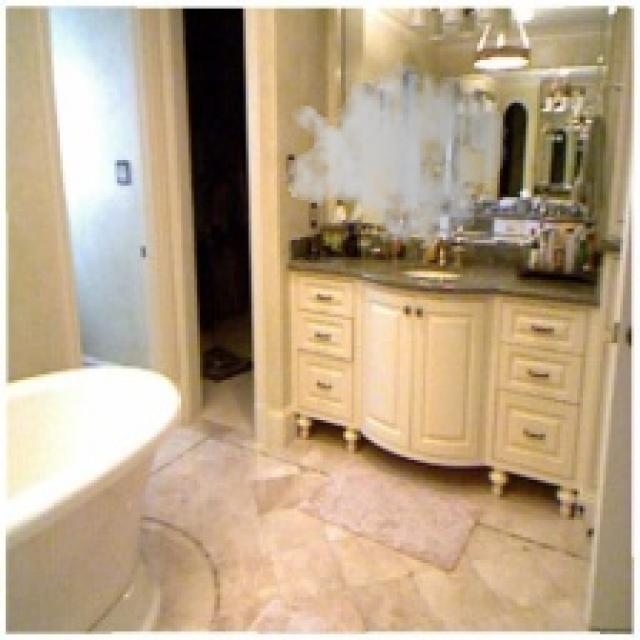Smoke: (283, 49, 508, 258)
